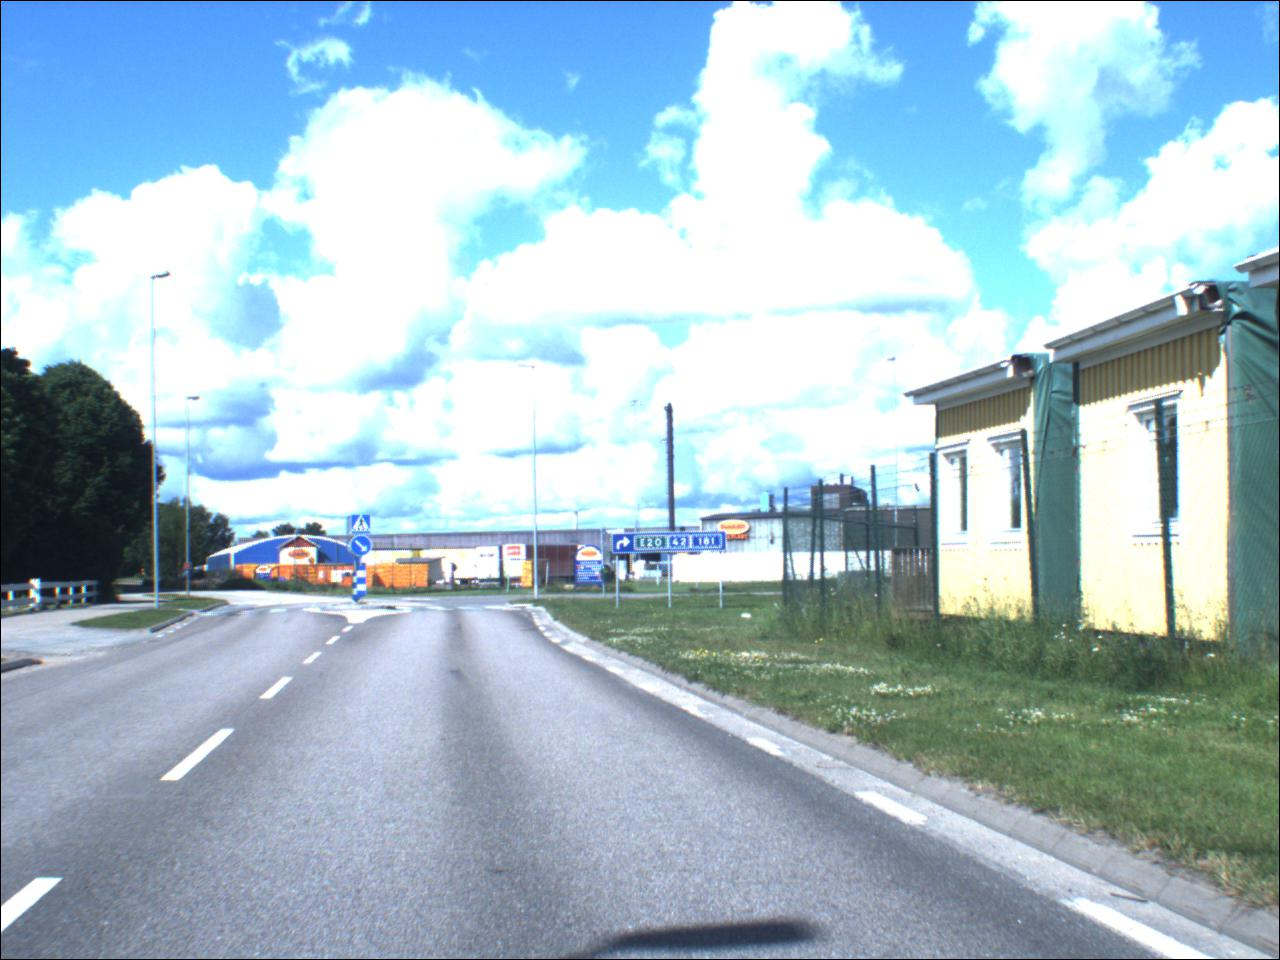PASS_RIGHT_SIDE: (352, 537, 374, 558)
PEDESTRIAN_CROSSING: (352, 516, 373, 537)
